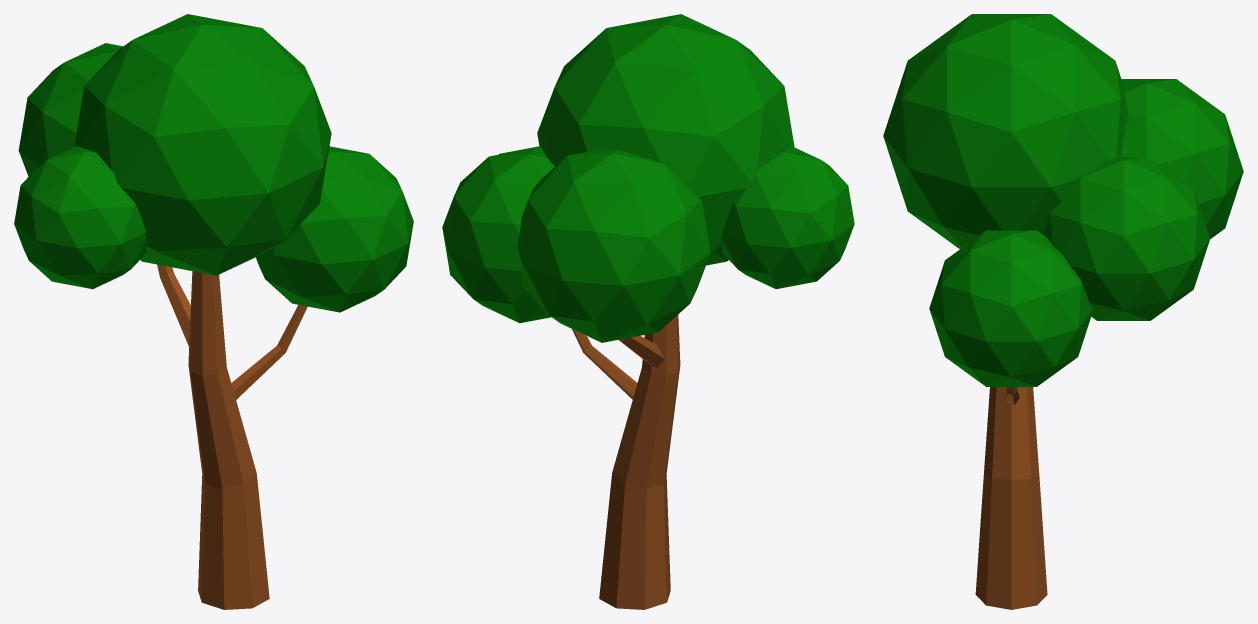
The model's file is Tree.001.fbx.
3 renders of one model, left to right at view 1: azimuth 30°, elevation 25°; view 2: azimuth 150°, elevation 25°; view 3: azimuth 270°, elevation 25°, orthographic. The views are drawn at different scales.
Visible parts, largest first — view 1: Tree.000; view 2: Tree.000; view 3: Tree.000.
Boxes of the visible parts, x1,y1,x2,y2 form: Tree.000: [14, 14, 413, 609]; Tree.000: [442, 14, 854, 609]; Tree.000: [883, 14, 1243, 609].
Size of the model in its own units: 315 by 464 by 270.
